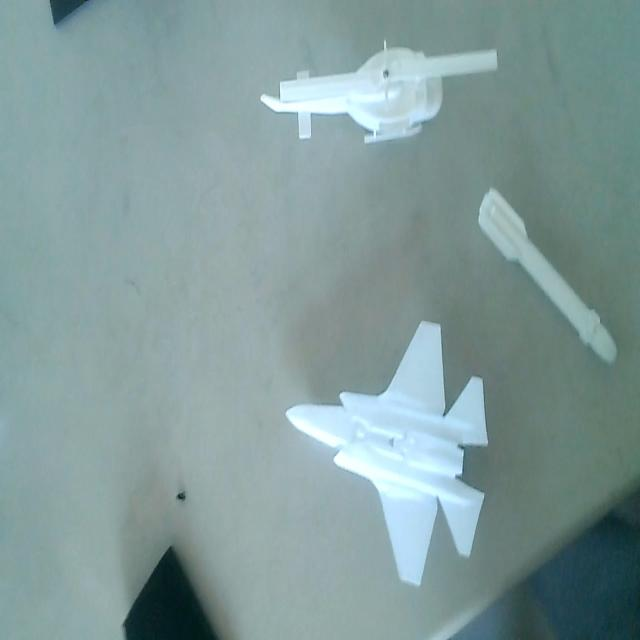Helicopter: (258, 41, 500, 147)
Jet: (284, 318, 490, 598)
Rocket: (475, 182, 619, 366)
